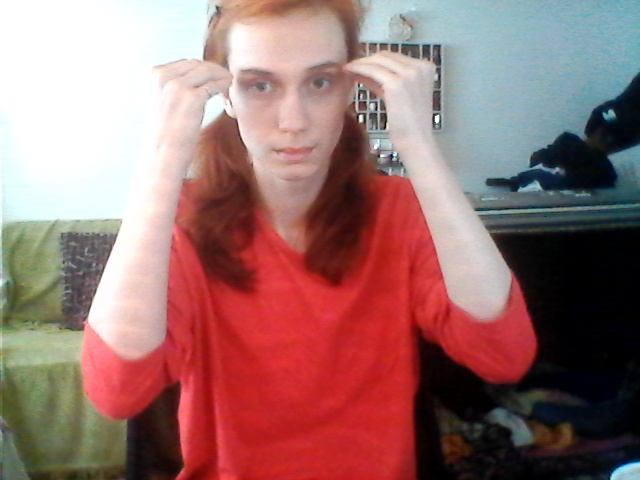ucit: (140, 41, 449, 114)
